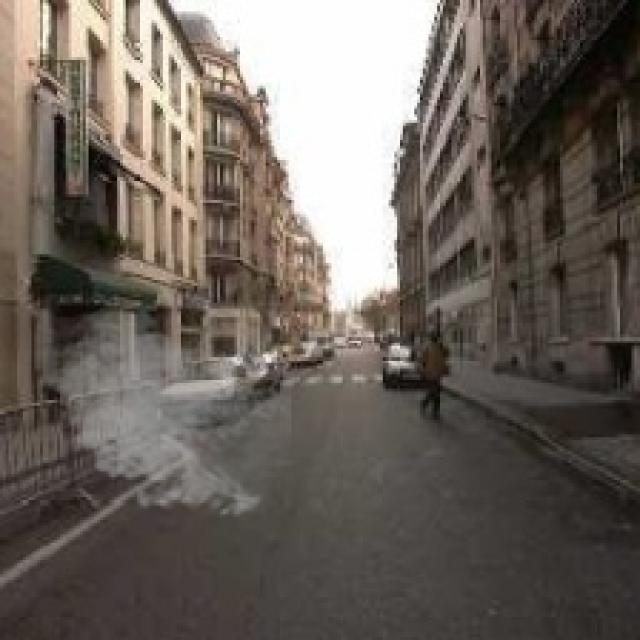smoke: (40, 300, 291, 523)
